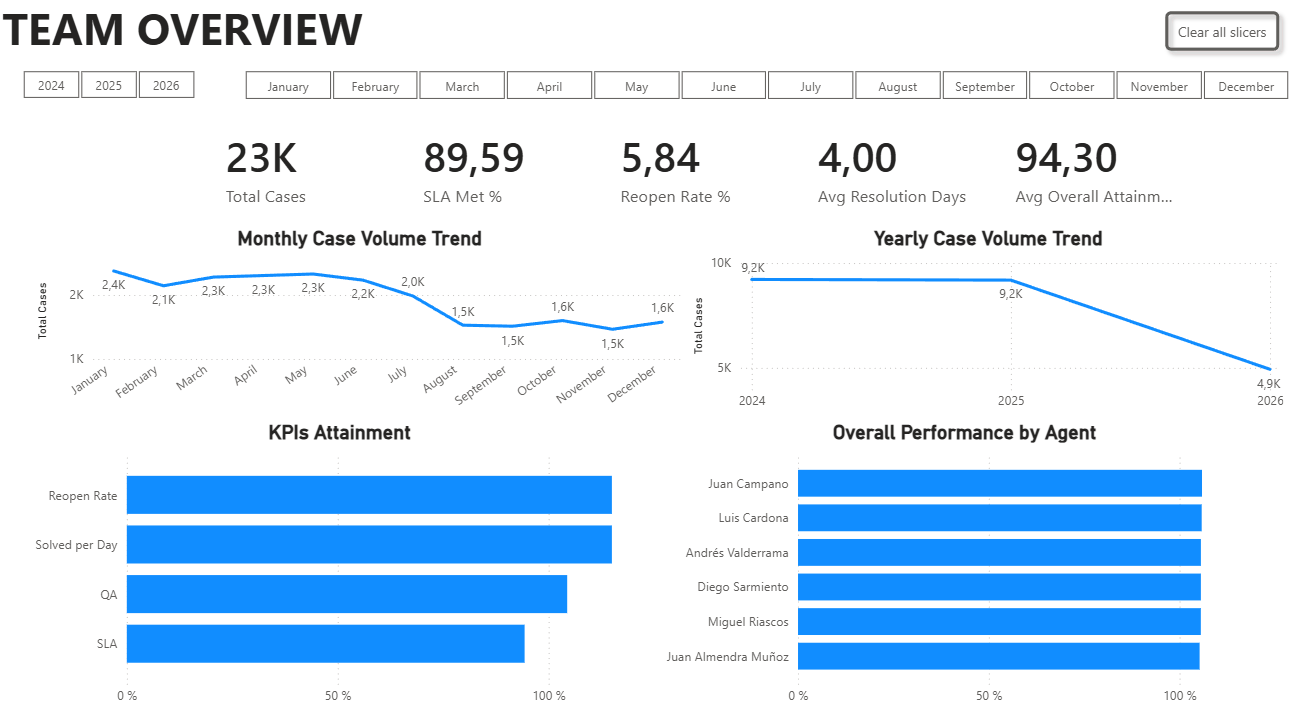

Layout of this report page (visuals, bound fields, positions):
{"tool":"powerbi","page":{"name":"Team Overview","canvas":[1280,720],"ordinal":0},"visuals":[{"type":"slicer","fields":{"Values":["Calendar.Month"]},"box":[215.5,69.5,1064.5,41.3],"z":0},{"type":"slicer","fields":{"Values":["Calendar.Year"]},"box":[0,69.5,215.5,36.3],"z":1000},{"type":"textbox","box":[0,0,434.1,73.5],"z":2000},{"type":"actionButton","box":[1127.3,8.8,128.9,56.4],"z":3000},{"type":"cardVisual","fields":{"Data":["_Measures.Total Cases","_Measures.SLA Met %","_Measures.Reopen Rate %","_Measures.Avg Resolution Days","_Measures.Avg Overall Attainment"]},"box":[193.4,111.8,989,114.8],"z":4000},{"type":"lineChart","title":"Monthly Case Volume Trend","fields":{"Category":["Calendar.Month"],"Y":["_Measures.Total Cases"]},"box":[34.2,226.6,637.5,188.3],"z":5000},{"type":"barChart","title":"KPIs Attainment","fields":{"Category":["KPI_Targets.KPI"],"Y":["_Measures.KPI Attainment"]},"box":[26.2,414.9,614.3,286],"z":6000},{"type":"barChart","title":"Overall Performance by Agent","fields":{"Category":["Dim_Agent.Agent"],"Y":["_Measures.Weighted Overall Performance"]},"box":[636.5,414.9,610.3,286],"z":7000},{"type":"lineChart","title":"Yearly Case Volume Trend","fields":{"Y":["_Measures.Total Cases"],"Category":["Calendar.Year"]},"box":[671.7,226.6,584.1,188.3],"z":8000}]}

Visuals, with their boxes in screenshot pixels (x1, y1, x2, y2), scaled from the page's 1280x720 canvas onto the 1306x723 screenshot:
slicer - Calendar.Month: {"x1": 220, "y1": 70, "x2": 1305, "y2": 111}
slicer - Calendar.Year: {"x1": 0, "y1": 70, "x2": 220, "y2": 106}
textbox: {"x1": 0, "y1": 0, "x2": 443, "y2": 74}
actionButton: {"x1": 1150, "y1": 9, "x2": 1282, "y2": 65}
cardVisual - _Measures.Total Cases x _Measures.SLA Met %: {"x1": 197, "y1": 112, "x2": 1206, "y2": 228}
"Monthly Case Volume Trend" lineChart: {"x1": 35, "y1": 228, "x2": 685, "y2": 417}
"KPIs Attainment" barChart: {"x1": 27, "y1": 417, "x2": 654, "y2": 704}
"Overall Performance by Agent" barChart: {"x1": 649, "y1": 417, "x2": 1272, "y2": 704}
"Yearly Case Volume Trend" lineChart: {"x1": 685, "y1": 228, "x2": 1281, "y2": 417}
